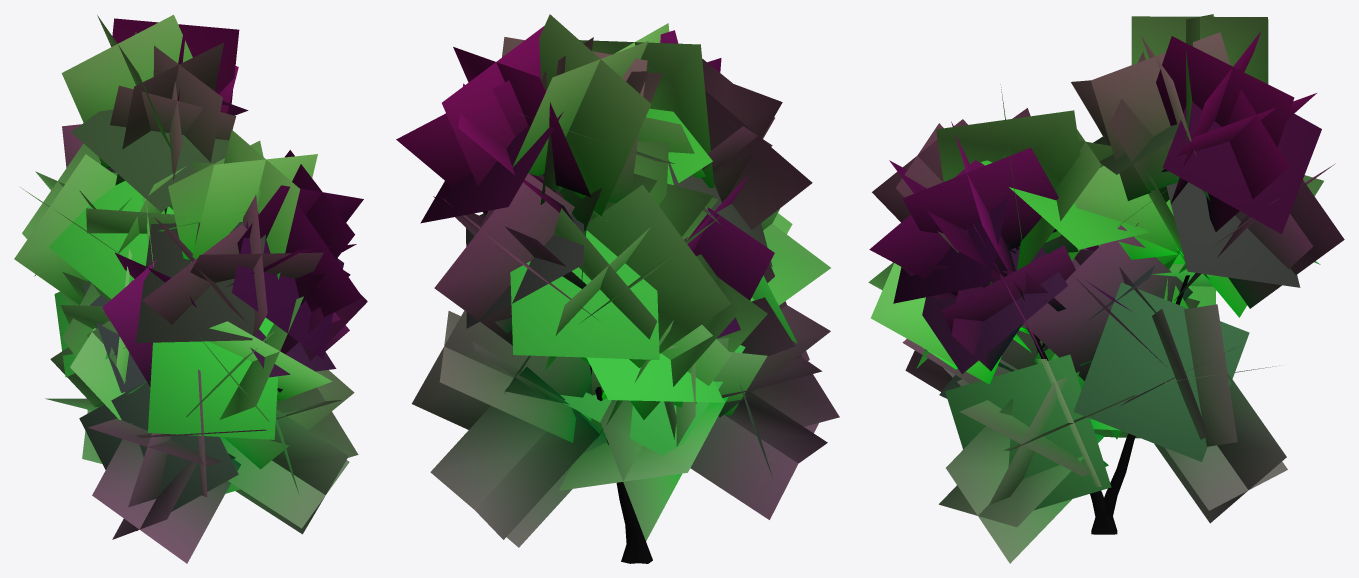
File: M_Tree_1_3.fbx
The picture shows the model from 3 angles, left to right: view 1: azimuth 30°, elevation 25°; view 2: azimuth 150°, elevation 25°; view 3: azimuth 270°, elevation 25°; orthographic projection. The views are drawn at different scales.
Parts seen in each view (by area): view 1: M_Tree_1_3; view 2: M_Tree_1_3; view 3: M_Tree_1_3.
Part boxes in pixels (x1,y1,x2,y2): M_Tree_1_3: (14,14,367,563); M_Tree_1_3: (396,14,839,563); M_Tree_1_3: (868,14,1344,563).
Size of the model in its own units: 667 by 1155 by 940.
